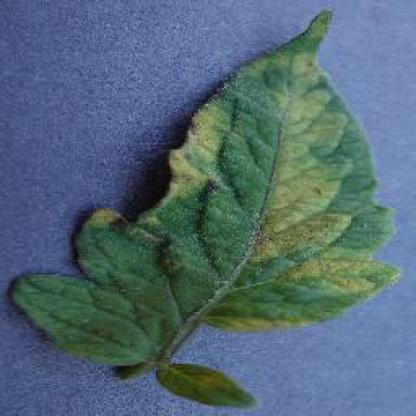Tomato_Leaf_Mold: (17, 7, 404, 356)
